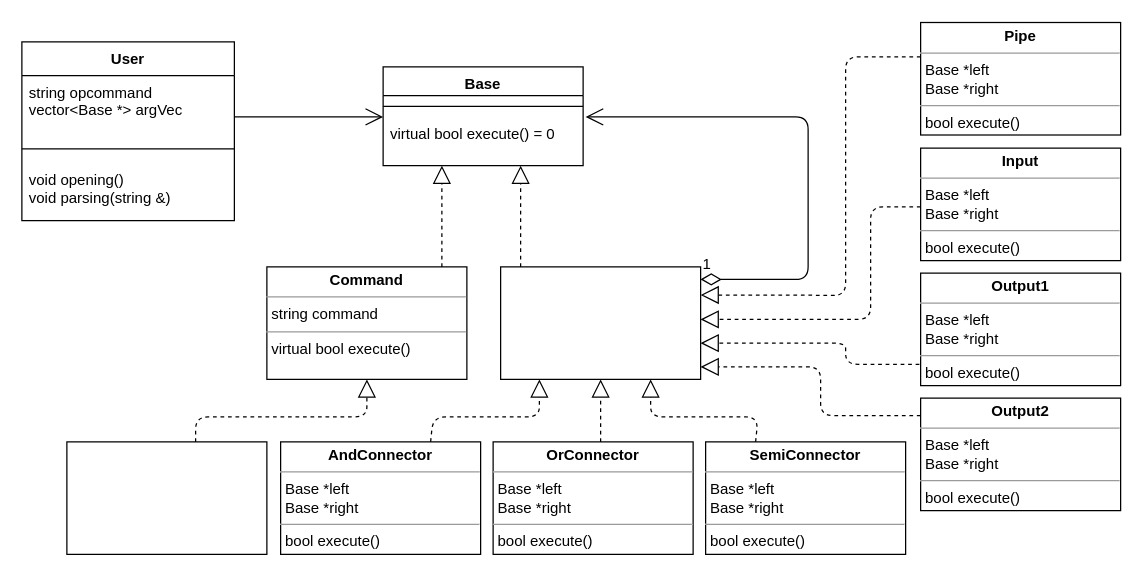
Image size: 1143x576. Some labels were removed from this diagram. The shapes that lost their labels are listed below. From the top down, each one's centre as x and y in pixels, then its label:
[600,322]: Connector Base *left Base *right bool execute()
[166,497]: TestCommand string command bool execute()
